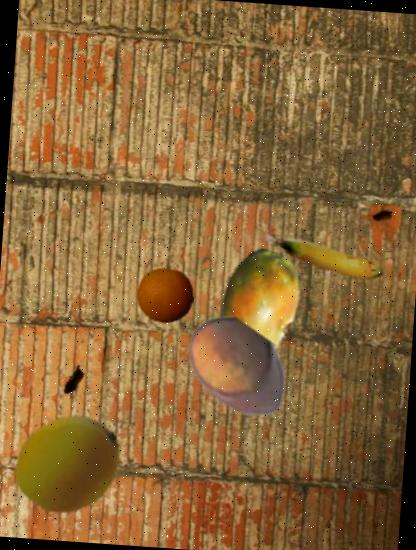Banana: (253, 186, 391, 324)
Cactus: (176, 244, 332, 400)
Hazelnut: (174, 304, 300, 430)
Orange: (134, 265, 196, 327)
Peach: (8, 405, 126, 523)
